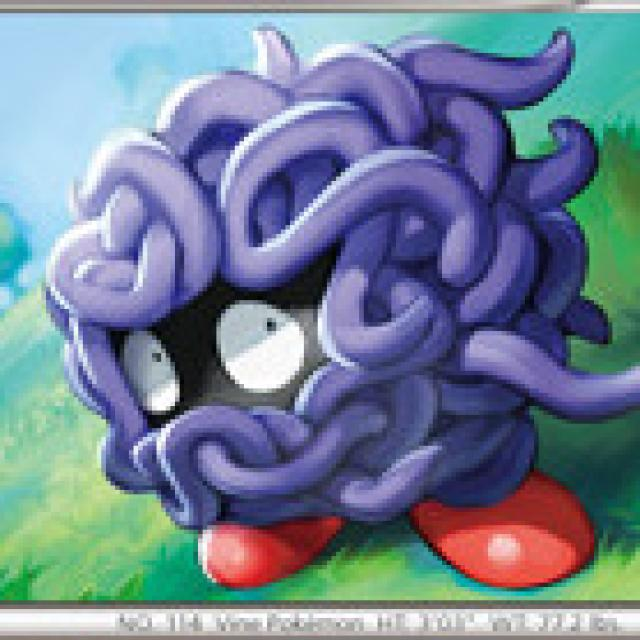Tangela: (72, 36, 603, 584)
